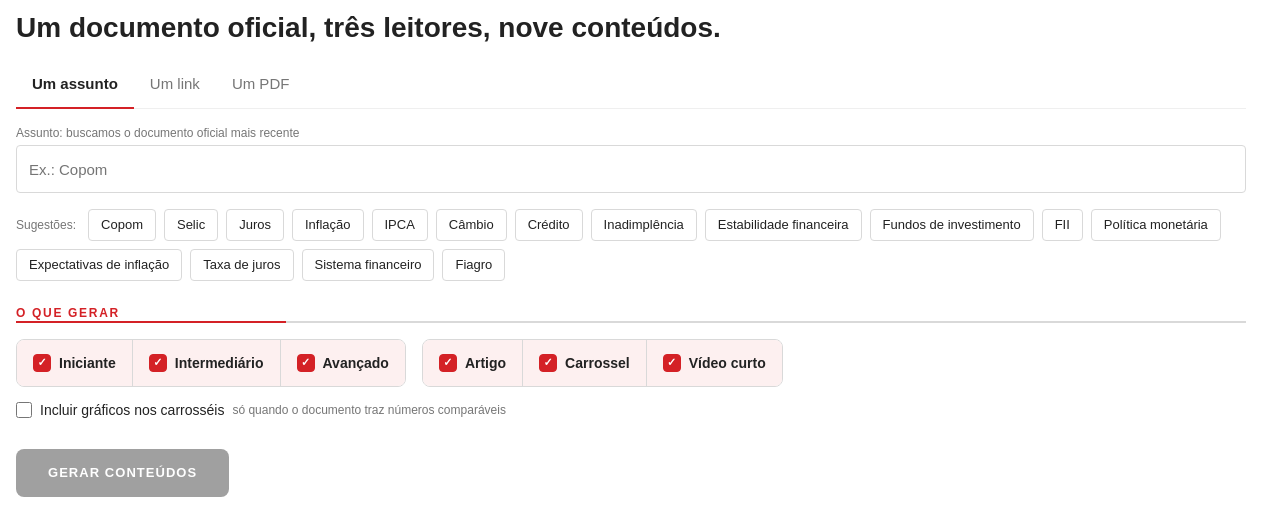
Test case: Entrada e histórico › as sugestões preenchem o campo e as três abas existem
Expected: the text "Sugestões:" is shown, [16,217,76,233]
Click the button "Inflação" at (328, 225), box [292,209,364,241]
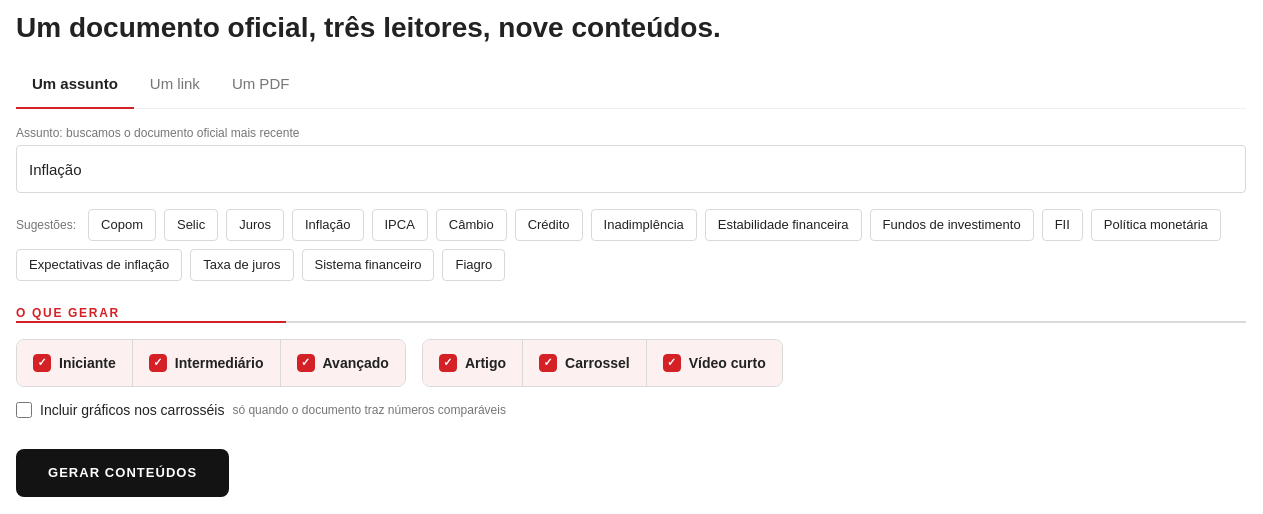
Expected: the tabs read "Um assunto", "Um link", "Um PDF", in this order, [16,61,134,109]; [134,61,216,109]; [216,61,305,109]
Now the field labelled "Assunto: buscamos o documento oficial mais recente" holds "Inflação", box [16,145,1246,193]
Now the button "Gerar conteúdos" is enabled, box [16,449,229,497]
